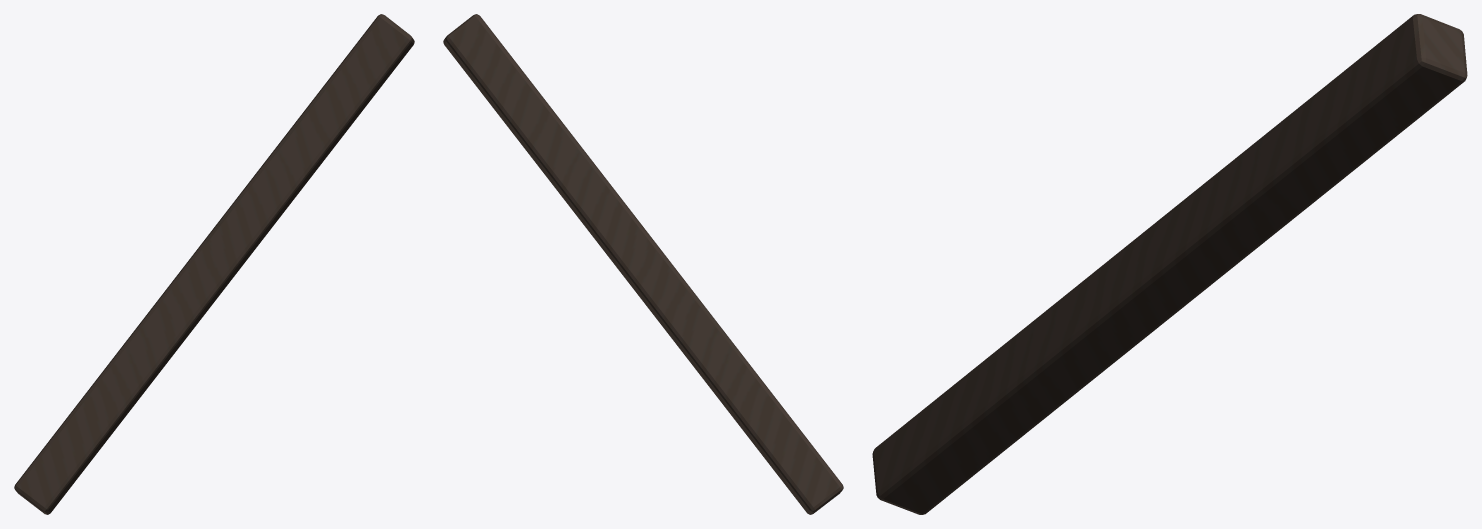
Rendered from AR_Brace_Diagonal.glb.
3 renders of one model, left to right at view 1: azimuth 30°, elevation 25°; view 2: azimuth 150°, elevation 25°; view 3: azimuth 330°, elevation 25°, orthographic. The views are drawn at different scales.
Parts seen in each view (by area): view 1: AR_Brace_Diagonal; view 2: AR_Brace_Diagonal; view 3: AR_Brace_Diagonal.
Part boxes in pixels (bbox=[...]): AR_Brace_Diagonal: bbox=[14, 14, 414, 514]; AR_Brace_Diagonal: bbox=[443, 14, 843, 514]; AR_Brace_Diagonal: bbox=[872, 14, 1467, 514].
Size of the model in its own units: 1.08 by 1.09 by 0.1325.
Materials: 1 (1 with a texture image).
